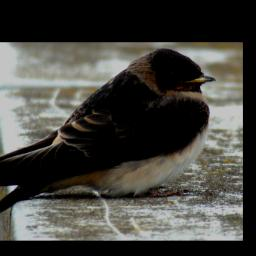Swallow: (0, 47, 218, 222)
